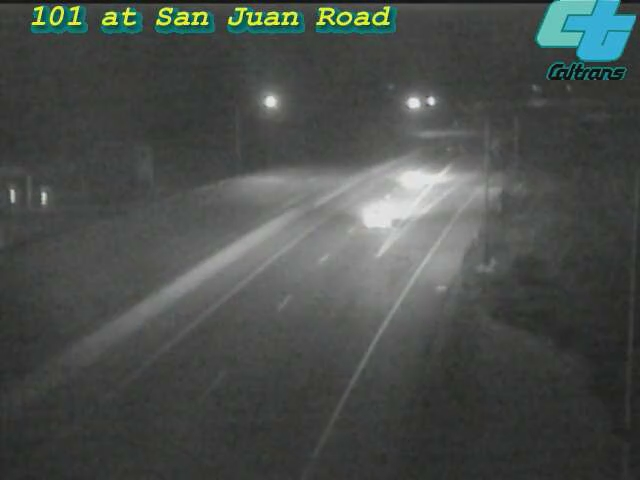vehicle: (377, 139, 457, 219), (337, 178, 417, 258)
